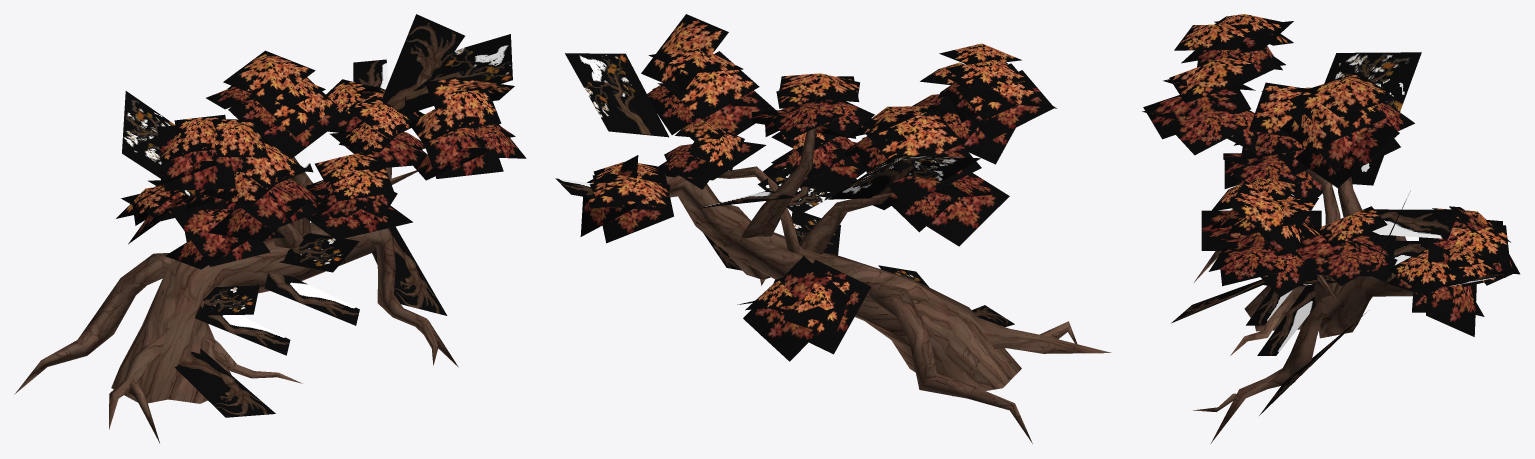
Rendered from 2_Plant_Fengshu_02.FBX.
3 views of the same model, side by side, from view 1: azimuth 30°, elevation 25°; view 2: azimuth 150°, elevation 25°; view 3: azimuth 270°, elevation 25° (orthographic). The views are drawn at different scales.
Visible parts, largest first — view 1: 2_Plant_Fengshu_02_01, 2_Plant_Fengshu_02_04, 2_Plant_Fengshu_02_02, 2_Plant_Fengshu_02_03; view 2: 2_Plant_Fengshu_02_01, 2_Plant_Fengshu_02_04, 2_Plant_Fengshu_02_02, 2_Plant_Fengshu_02_03; view 3: 2_Plant_Fengshu_02_04, 2_Plant_Fengshu_02_02, 2_Plant_Fengshu_02_01, 2_Plant_Fengshu_02_03.
Boxes of the visible parts, x1=… form: 2_Plant_Fengshu_02_01: x1=14, y1=14, x2=512, y2=443; 2_Plant_Fengshu_02_04: x1=116, y1=50, x2=345, y2=269; 2_Plant_Fengshu_02_02: x1=326, y1=75, x2=526, y2=180; 2_Plant_Fengshu_02_03: x1=305, y1=150, x2=412, y2=240; 2_Plant_Fengshu_02_01: x1=555, y1=53, x2=1111, y2=443; 2_Plant_Fengshu_02_04: x1=743, y1=43, x2=1056, y2=361; 2_Plant_Fengshu_02_02: x1=580, y1=14, x2=775, y2=243; 2_Plant_Fengshu_02_03: x1=763, y1=131, x2=865, y2=193; 2_Plant_Fengshu_02_04: x1=1142, y1=14, x2=1519, y2=285; 2_Plant_Fengshu_02_02: x1=1208, y1=180, x2=1505, y2=336; 2_Plant_Fengshu_02_01: x1=1171, y1=52, x2=1517, y2=443; 2_Plant_Fengshu_02_03: x1=1201, y1=178, x2=1321, y2=250.
Bounding box in the file's own units: 1963 × 1166 × 1279.
Materials: 2 (2 with a texture image).
